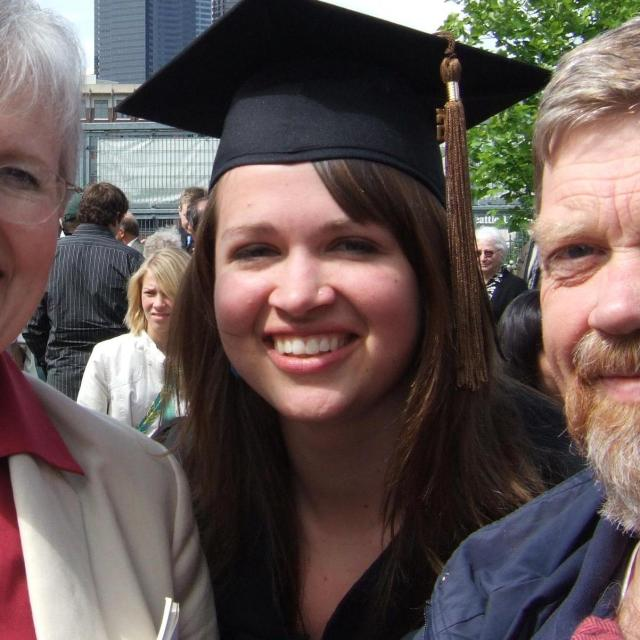no-glass: (238, 237, 381, 266)
